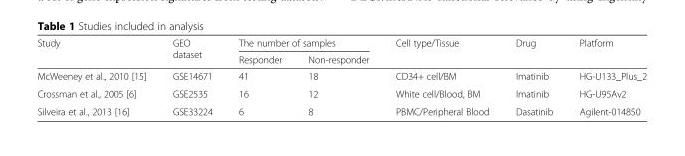table: (36, 36, 646, 116)
table column: (36, 36, 158, 116), (381, 36, 501, 116), (294, 36, 381, 116), (565, 36, 646, 116), (224, 36, 294, 116), (158, 36, 224, 116), (501, 36, 565, 116)
table column header: (36, 36, 646, 67)
table row: (36, 84, 646, 102), (36, 50, 646, 67), (36, 67, 646, 84), (36, 36, 646, 50), (36, 102, 646, 116)
table spanning cell: (36, 36, 158, 67), (381, 36, 501, 67), (565, 36, 646, 67), (224, 36, 381, 50), (158, 36, 224, 67), (501, 36, 565, 67)
